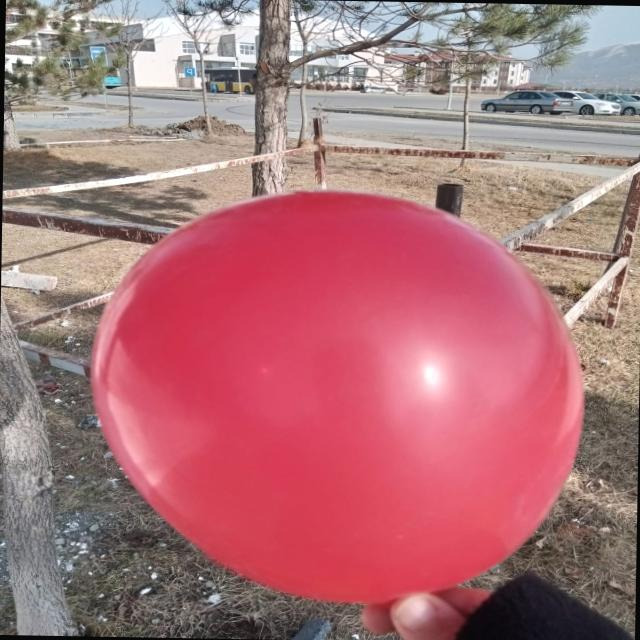balloon: (92, 191, 583, 602)
